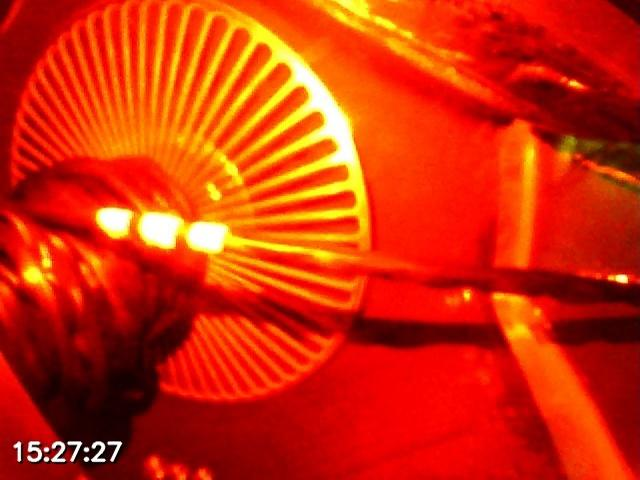white-dots: (95, 205, 230, 254)
